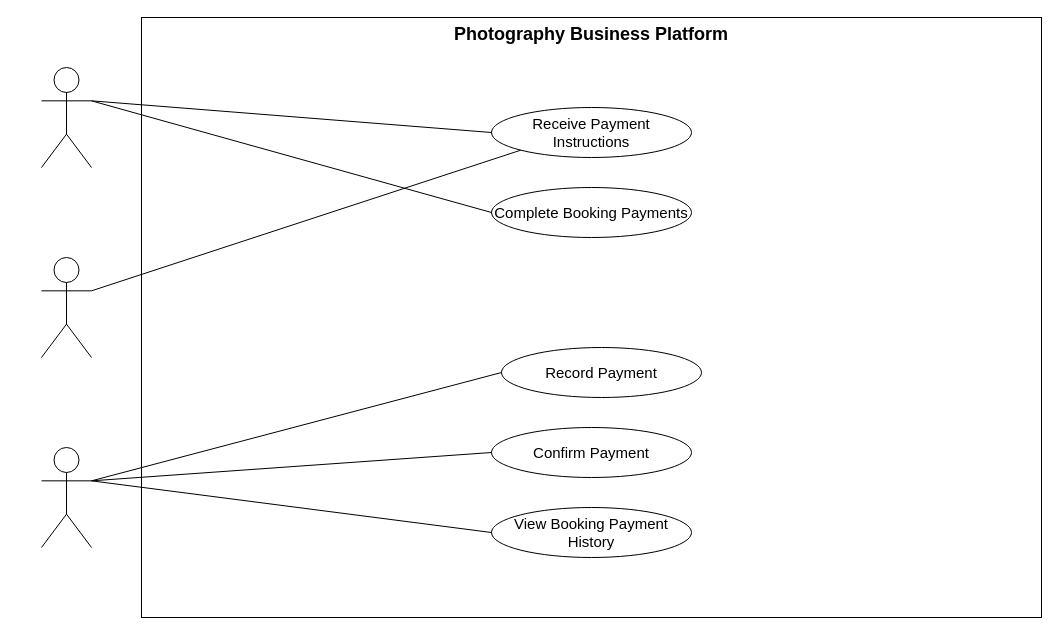
This 1059x635 diagram has some shape labels left out. The centre of each missing label's shape, as x and y in pixels:
Client: the point at 66,117
Email Service: the point at 66,307
Photographer: the point at 66,497
